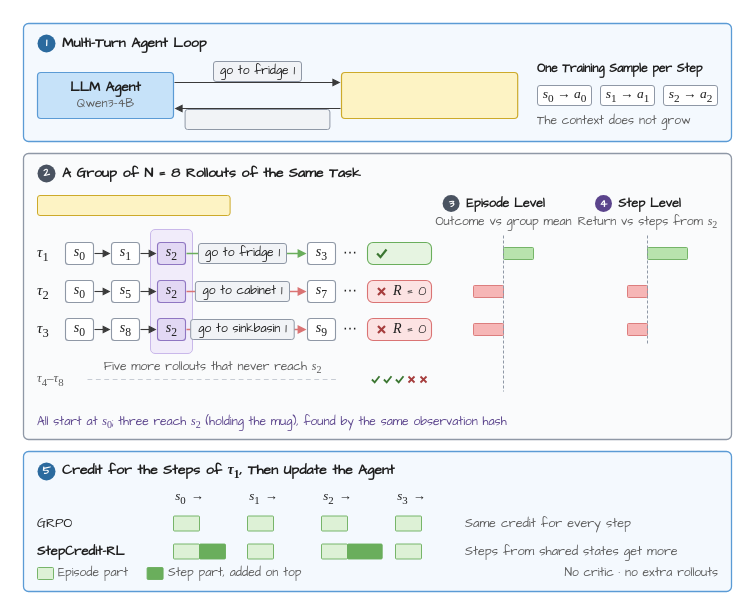
Image size: 754x614. Some labels were removed from this diagram. The centre of each missing label's shape, as x and y in pixels:
"Environment ALFWorld household tasks" belongs at point (429, 95).
"R = 1" belongs at point (399, 253).
"Task: “put a cool mug in cabinet”" belongs at point (133, 205).
"“You arrive at fridge 1.”" belongs at point (257, 119).
